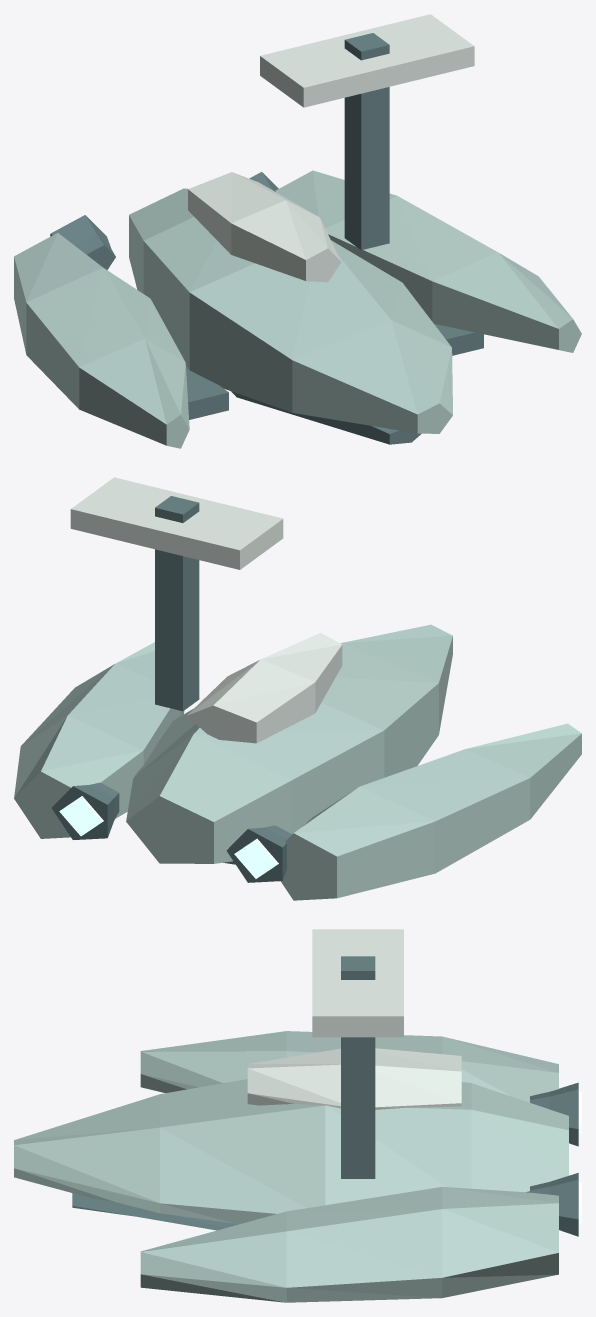
The picture shows the model from 3 angles, top to bottom: view 1: azimuth 30°, elevation 25°; view 2: azimuth 150°, elevation 25°; view 3: azimuth 270°, elevation 25°; orthographic projection. The views are drawn at different scales.
Size of the model in its own units: 9.69 by 6.08 by 9.91.
